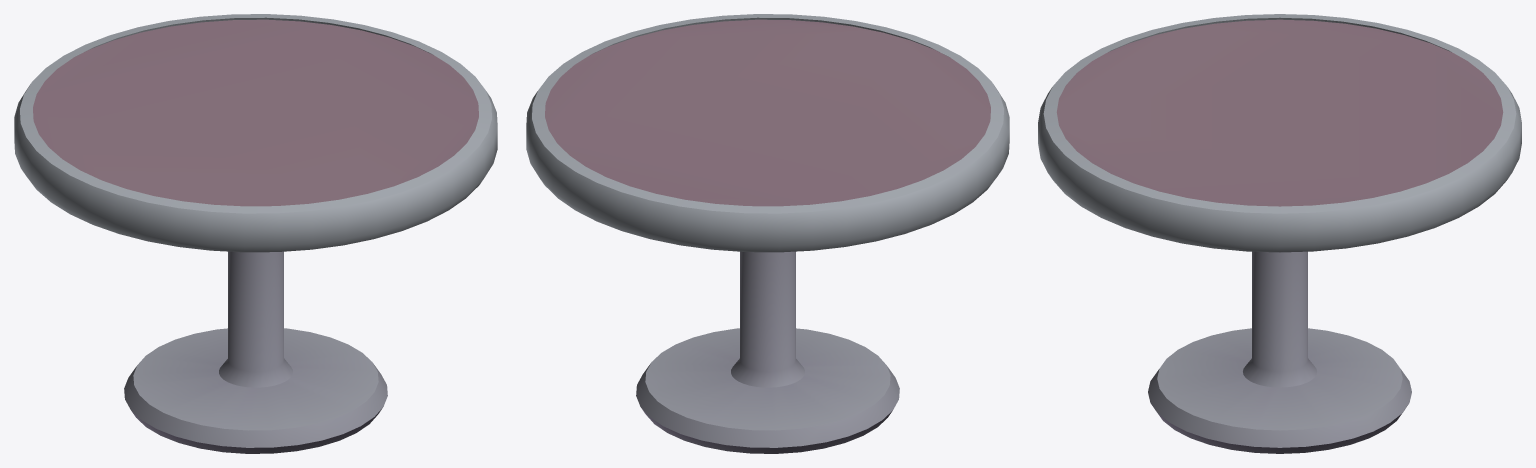
Rendered from table_retro.glb.
The picture shows the model from 3 angles, left to right: view 1: azimuth 30°, elevation 25°; view 2: azimuth 150°, elevation 25°; view 3: azimuth 270°, elevation 25°; orthographic projection.
Parts seen in each view (by area): view 1: table_retro; view 2: table_retro; view 3: table_retro.
Part boxes in pixels (bbox=[...]): table_retro: bbox=[14, 14, 497, 453]; table_retro: bbox=[526, 14, 1009, 453]; table_retro: bbox=[1038, 14, 1521, 453].
Size of the model in its own units: 1.3 by 0.855 by 1.3.
